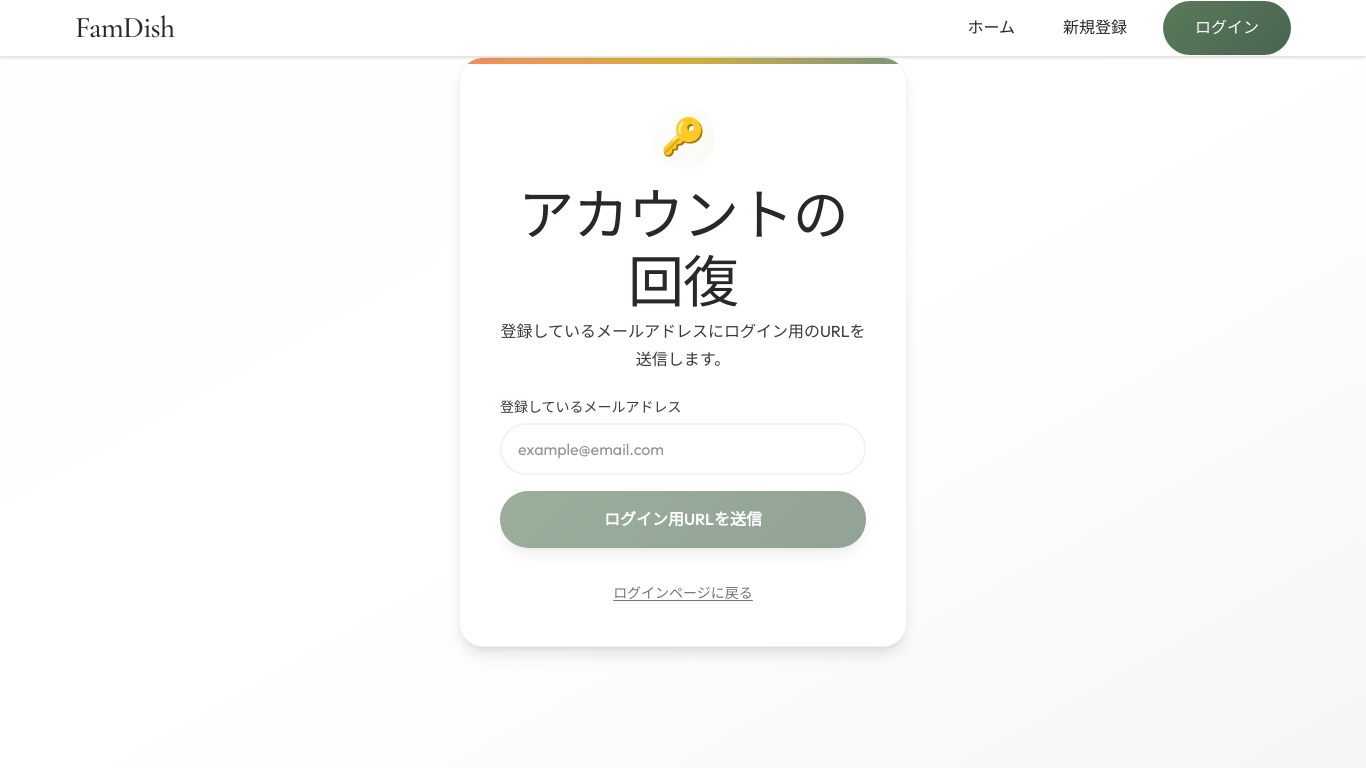
Test case: RecoveryPage › 送信成功後にメッセージを表示する
Type "test@example.com" into the field with placeholder "example@email.com". click: (683, 449)
box: [500,423,866,475]
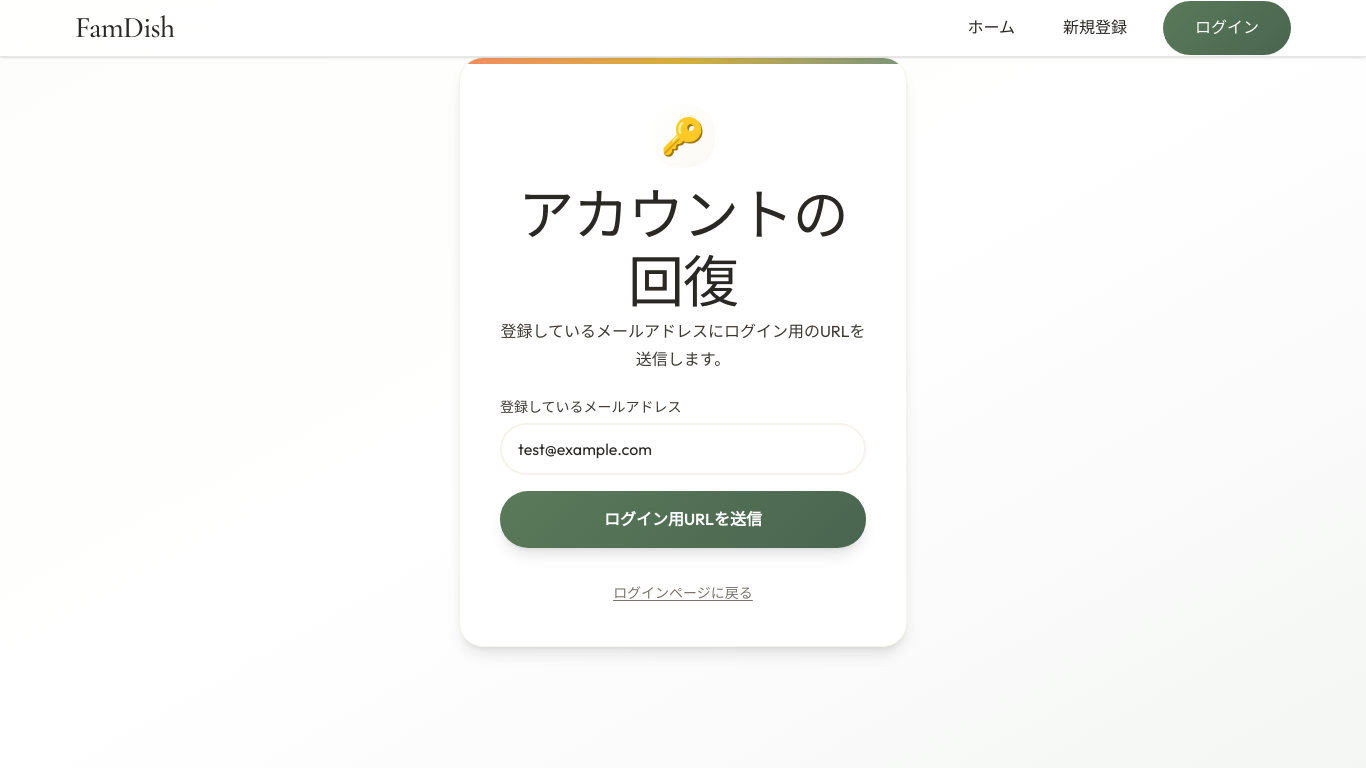
Click the button "ログイン用URLを送信". click: (683, 520)
box: [500,491,866,548]
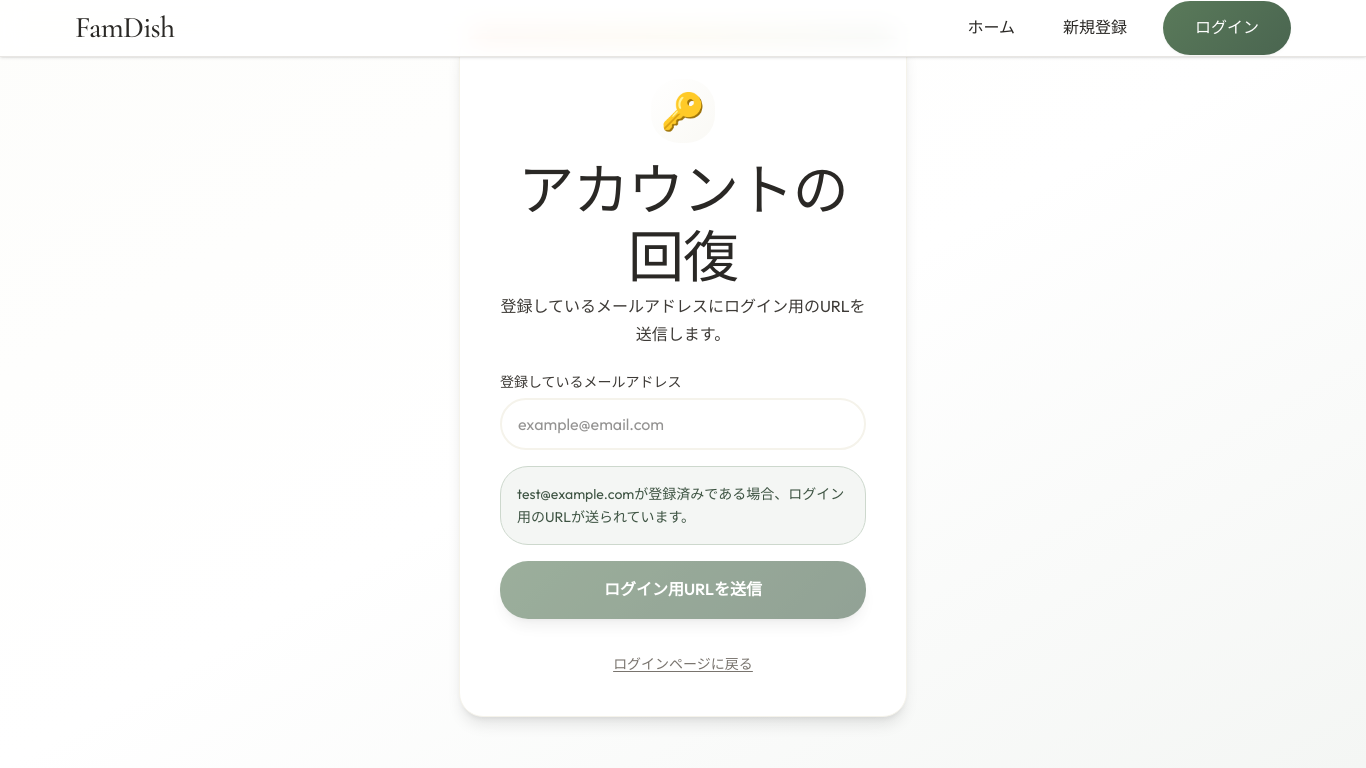
Expected: the text "登録済みである場合、ログイン用のURLが送られています" is shown, [517,485,844,526]
